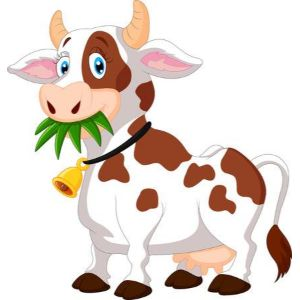cow: (4, 2, 293, 300)
